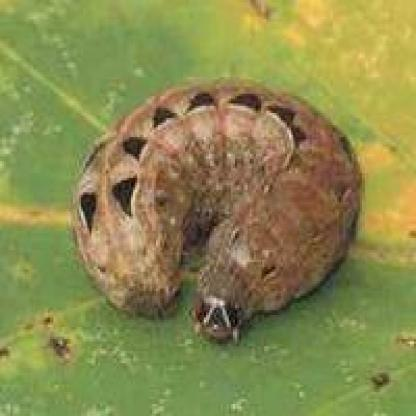armyworm: (74, 64, 370, 346)
